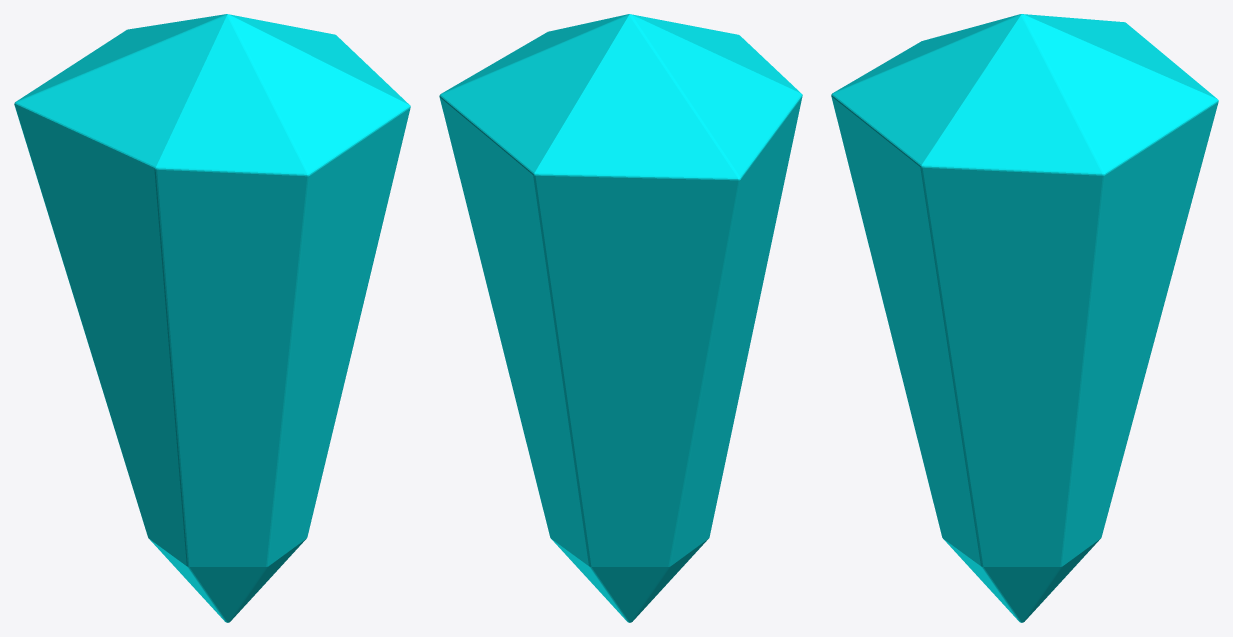
Rendered from Crystal.fbx.
The picture shows the model from 3 angles, left to right: view 1: azimuth 30°, elevation 25°; view 2: azimuth 150°, elevation 25°; view 3: azimuth 270°, elevation 25°; orthographic projection.
Parts seen in each view (by area): view 1: Cylinder; view 2: Cylinder; view 3: Cylinder.
Part boxes in pixels (x1,y1,x2,y2): Cylinder: (14,14,410,622); Cylinder: (439,14,802,622); Cylinder: (831,14,1218,622).
Size of the model in its own units: 22.42 by 41.86 by 24.16.
